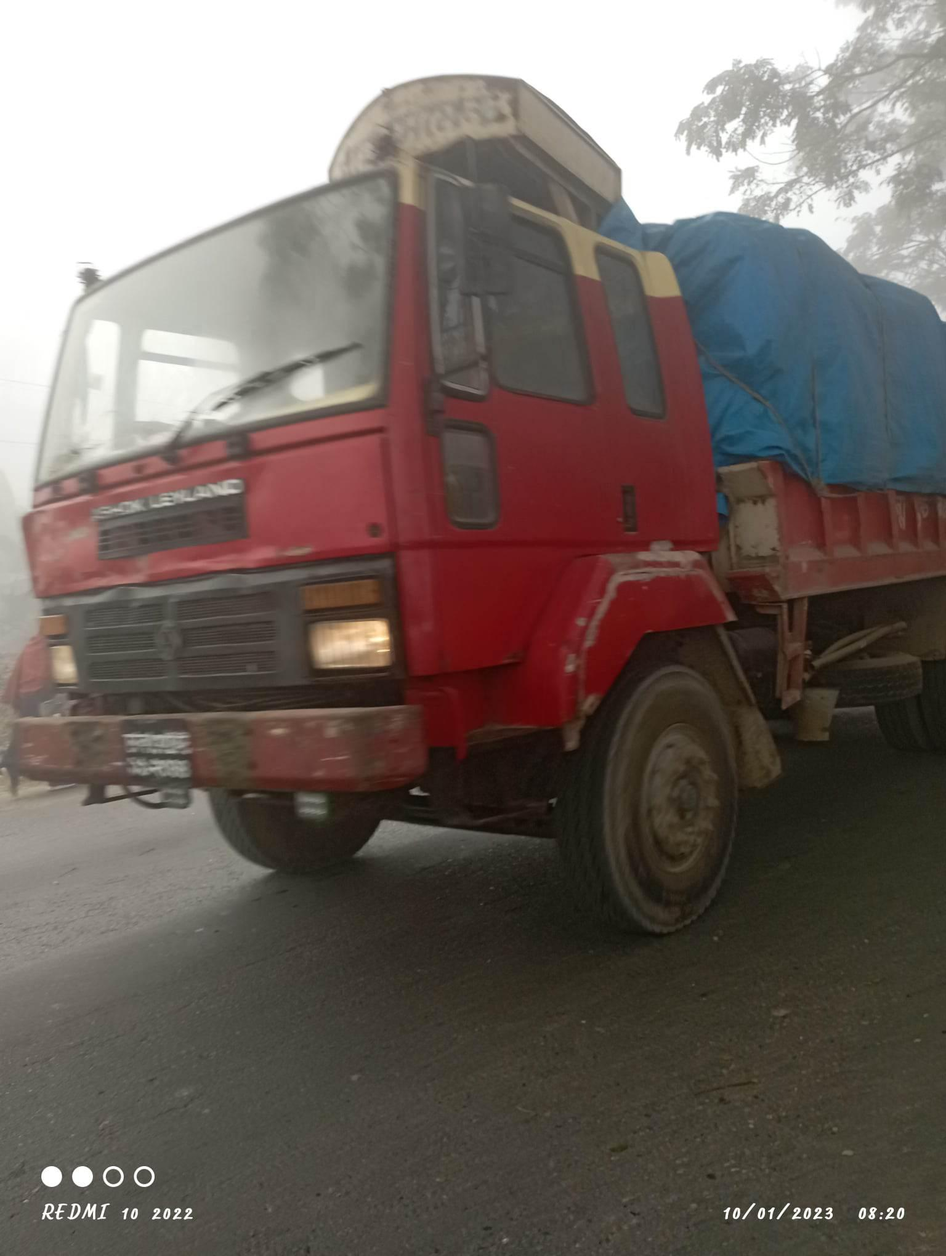Truck: (18, 65, 946, 932)
